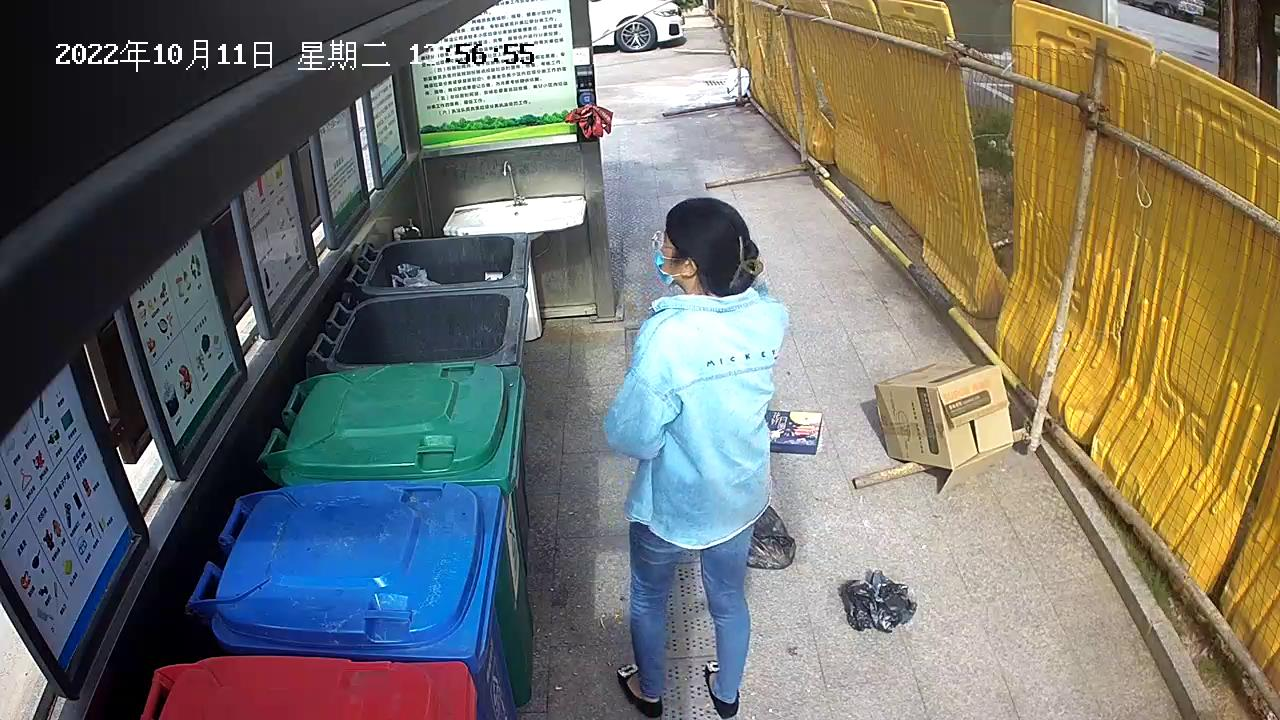garbage-bag: (832, 565, 925, 634)
worker: (593, 192, 793, 720)
zhizhipin: (869, 356, 1019, 498), (760, 403, 829, 461)
